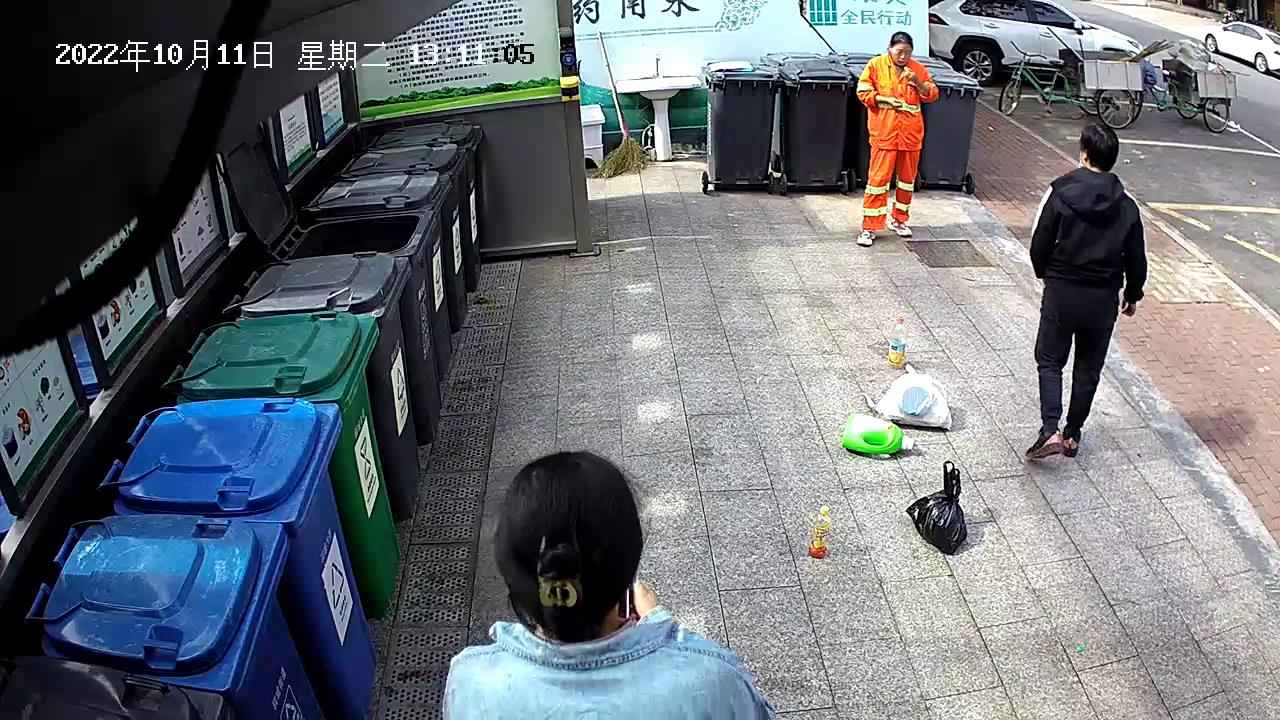garbage-bag: (901, 456, 969, 556), (873, 365, 954, 431)
person: (1023, 121, 1150, 462)
suliaozhipin: (839, 410, 915, 459), (807, 502, 834, 560), (885, 314, 909, 371)
worker: (440, 448, 778, 720), (854, 29, 940, 248)
